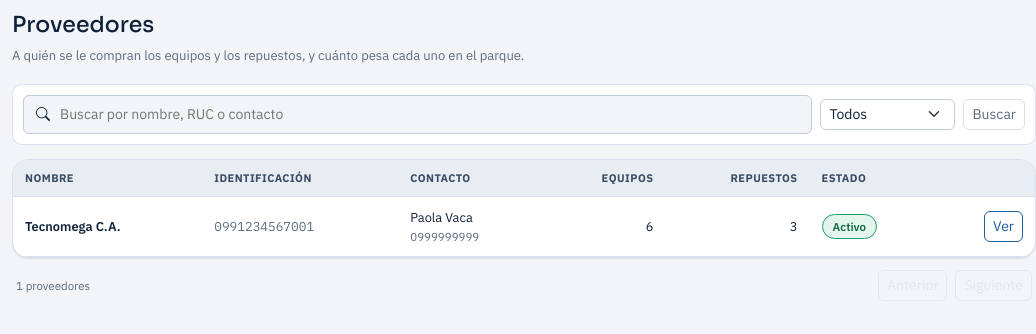
Proveedores › vacío por los filtros lo distingue y los limpia, búsqueda incluida
The width and height of the screenshot is (1036, 334).
expect the text "Tecnomega C.A." is shown: met, box [13, 197, 202, 256]
In the search field named "Buscar proveedores": (429, 114) [58, 103, 799, 126], type "zzz"
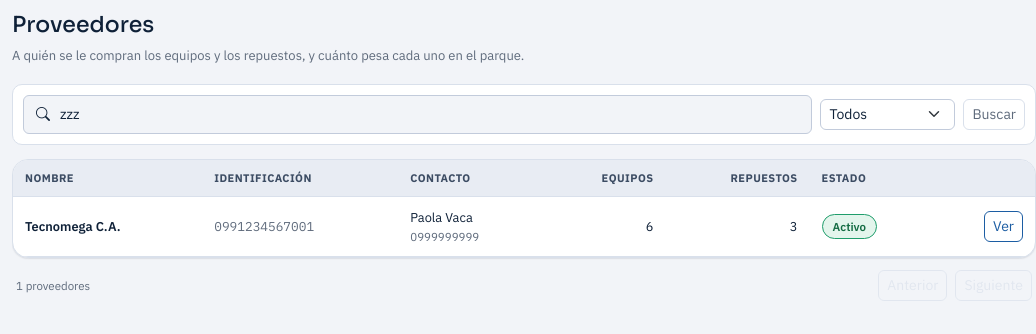
Submit the form named "Buscar proveedores", box [12, 84, 1035, 145]
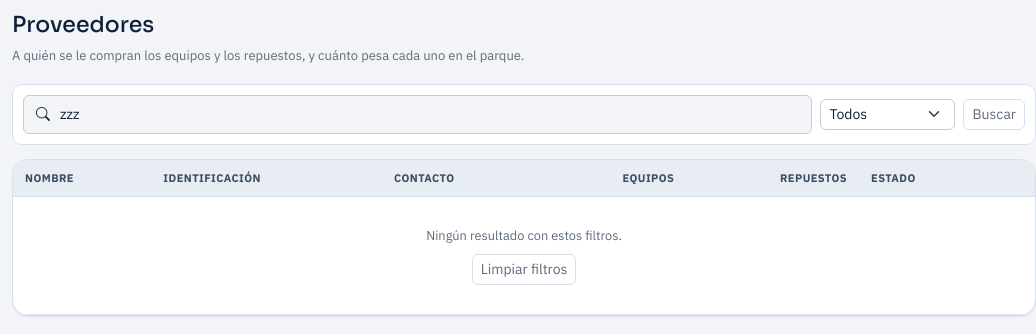
expect the text "Ningún resultado con estos filtros." is shown: met, box [426, 227, 622, 244]
Click the button "Limpiar filtros": (524, 269) [472, 254, 576, 285]
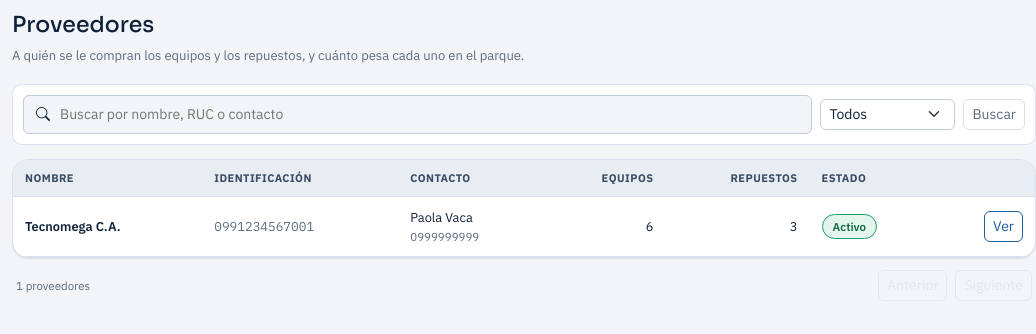
expect the text "Tecnomega C.A." is shown: met, box [13, 197, 202, 256]
expect the search field named "Buscar proveedores" is empty: met, box [58, 103, 799, 126]
